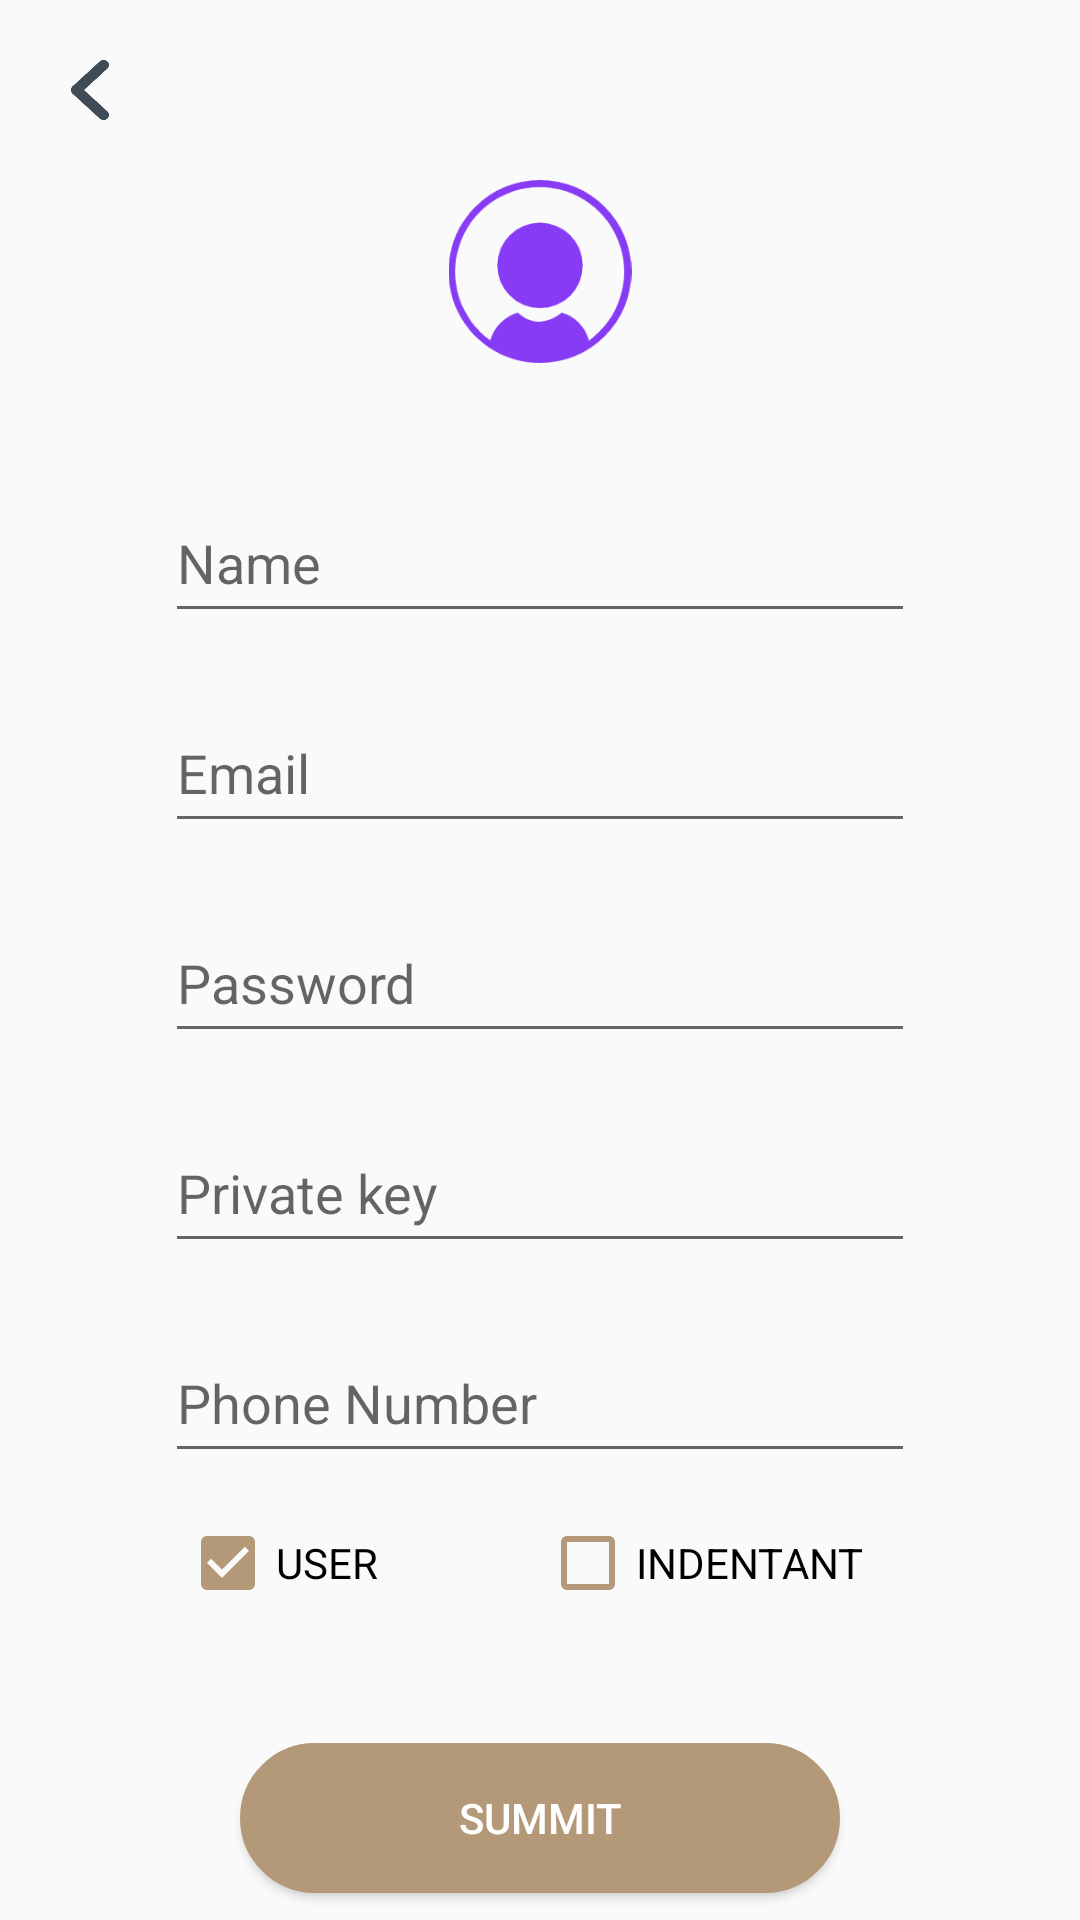

Icons on this 1080 × 1920 Android screen, each with the point to tap as point (x, y):
back: point (90, 90)
user: point (540, 271)
